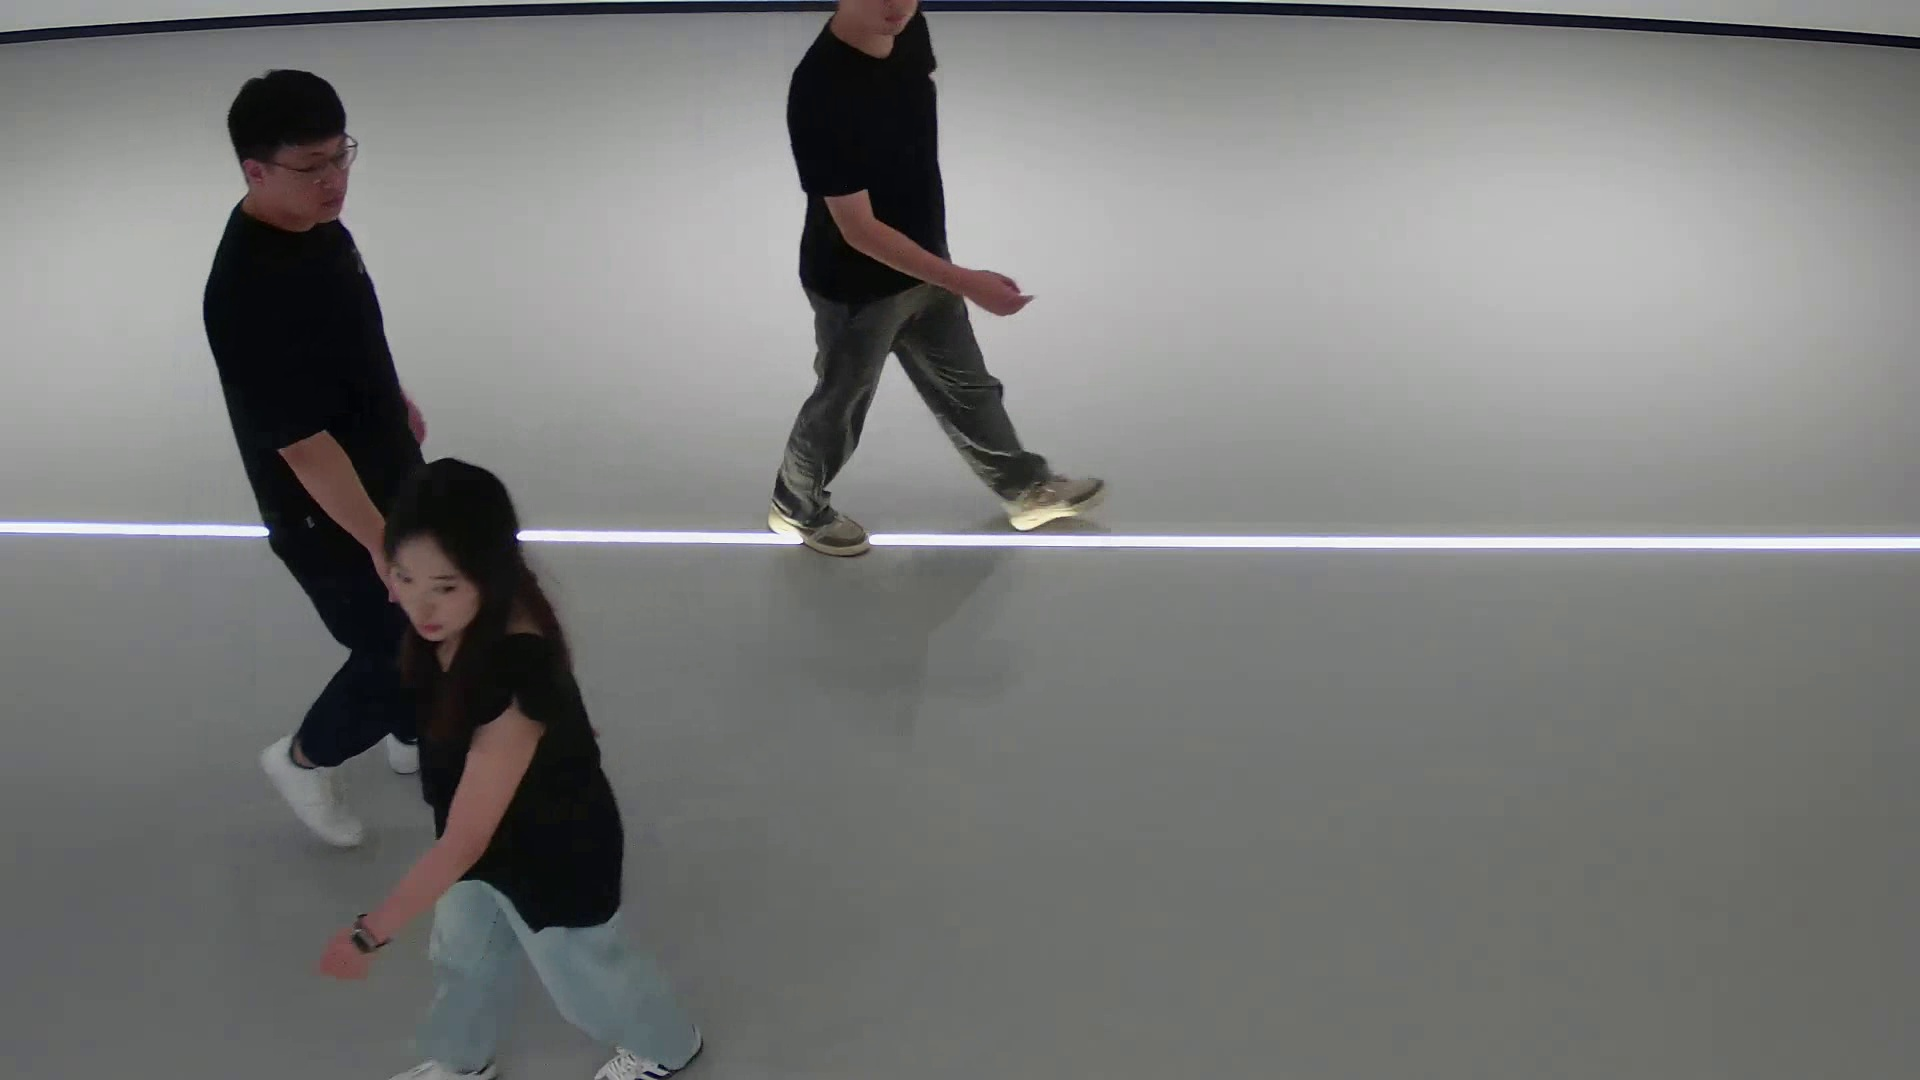normal: (295, 463, 709, 1080), (183, 65, 491, 869), (760, 1, 1114, 585)
